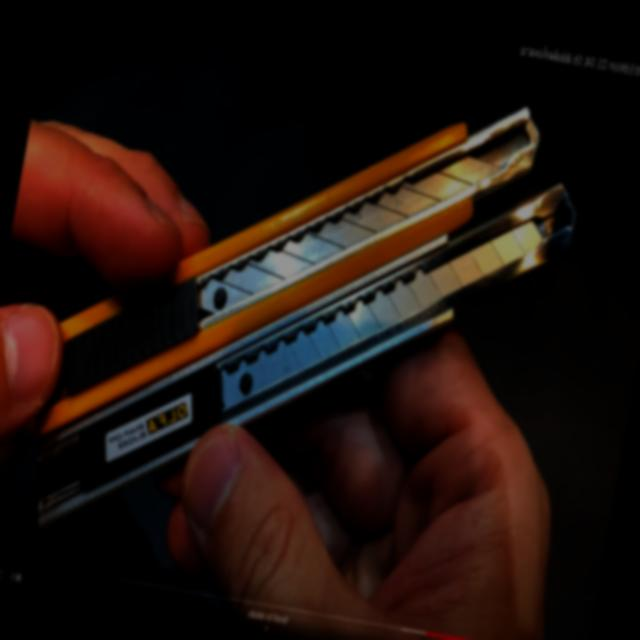cutter: (0, 0, 621, 627)
